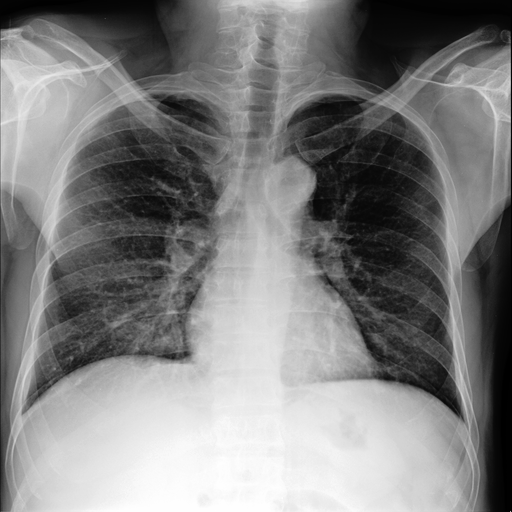Calcification: (86, 87, 207, 128), (140, 80, 204, 103), (287, 92, 371, 108), (80, 106, 117, 133)
Cardiomegaly: (63, 157, 159, 359)
Consolidation: (263, 155, 317, 199)
